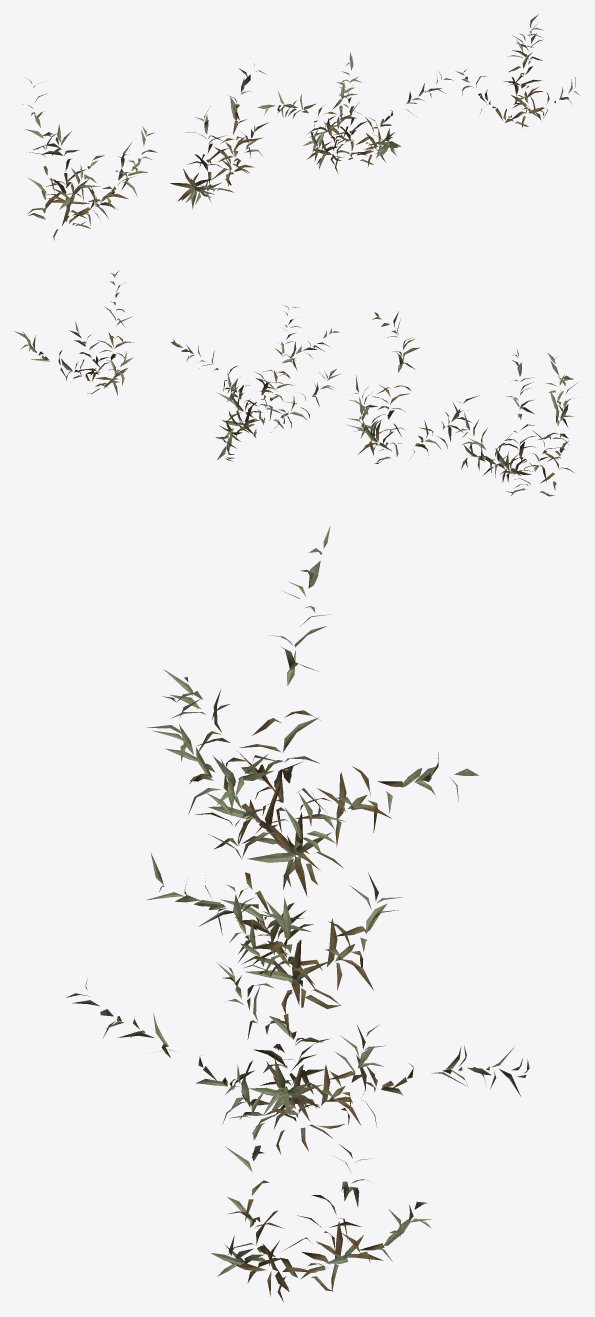
Rendered from shrub_02.glb.
3 views of the same model, one above another, from view 1: azimuth 30°, elevation 25°; view 2: azimuth 150°, elevation 25°; view 3: azimuth 270°, elevation 25° (orthographic). The views are drawn at different scales.
Visible parts, largest first — view 1: shrub_02_a; view 2: shrub_02_a; view 3: shrub_02_a.
Boxes of the visible parts, box(x1,y1,x2,y2) form: shrub_02_a: box(22, 14, 579, 240); shrub_02_a: box(15, 270, 576, 496); shrub_02_a: box(66, 526, 529, 1301).
Size of the model in its own units: 6.05 by 1.7 by 2.28.
1 material, 1 textured.
